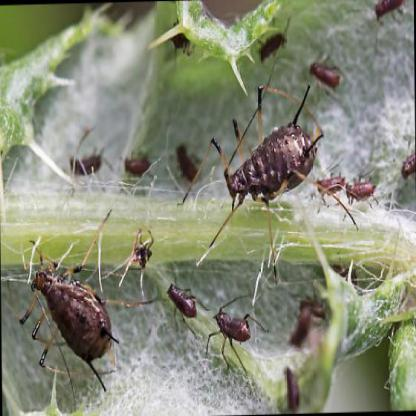uroleucon compositae: (19, 210, 142, 394), (179, 87, 324, 211)
